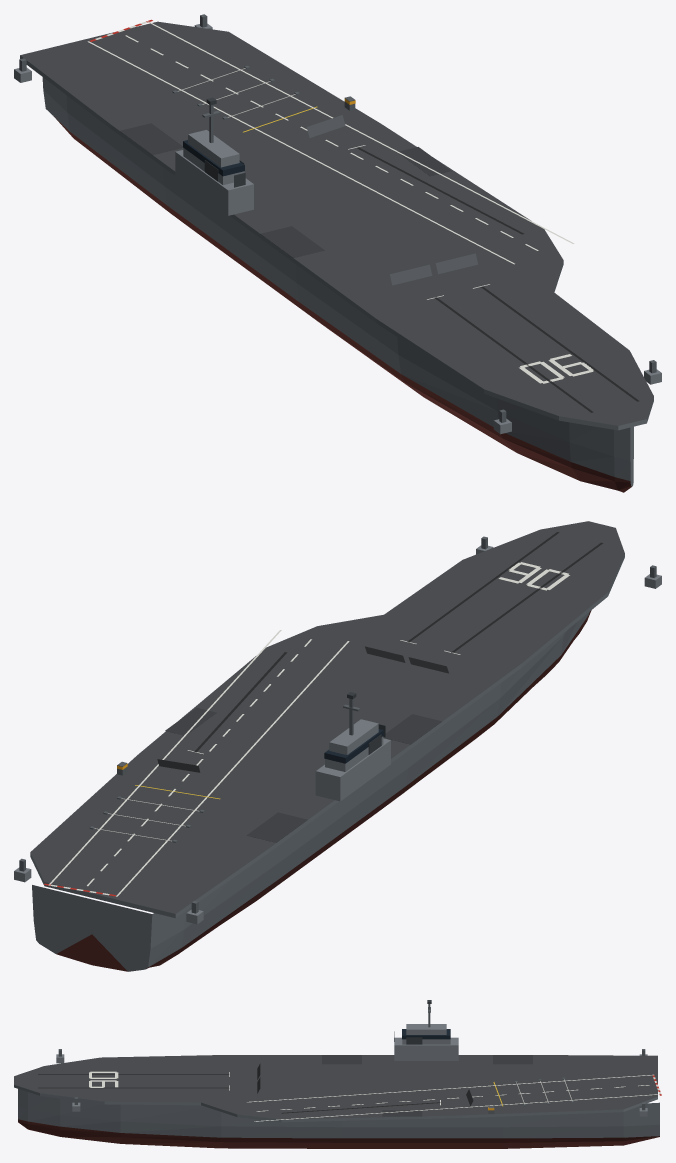
Rendered from cvn90.glb.
3 views of the same model, one above another, from view 1: azimuth 30°, elevation 25°; view 2: azimuth 150°, elevation 25°; view 3: azimuth 270°, elevation 25° (orthographic). The views are drawn at different scales.
Parts seen in each view (by area): view 1: flight_deck, hull, markings, island; view 2: flight_deck, hull, markings, island; view 3: flight_deck, hull, markings, island.
Part boxes in pixels (x1=…): flight_deck: x1=20, y1=21, x2=653, y2=430; hull: x1=42, y1=77, x2=633, y2=492; markings: x1=87, y1=19, x2=639, y2=412; island: x1=14, y1=14, x2=661, y2=434; flight_deck: x1=30, y1=521, x2=624, y2=918; hull: x1=32, y1=610, x2=591, y2=971; markings: x1=44, y1=532, x2=603, y2=896; island: x1=14, y1=536, x2=661, y2=924; flight_deck: x1=14, y1=1055, x2=657, y2=1122; hull: x1=18, y1=1089, x2=659, y2=1148; markings: x1=38, y1=1055, x2=661, y2=1121; island: x1=56, y1=1000, x2=647, y2=1116.
Bounding box in the file's own units: 82.72 × 63.2 × 322.
